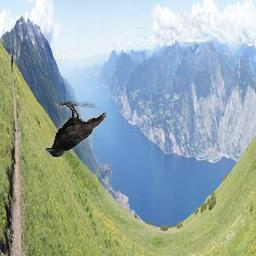Crow: (46, 101, 107, 157)
